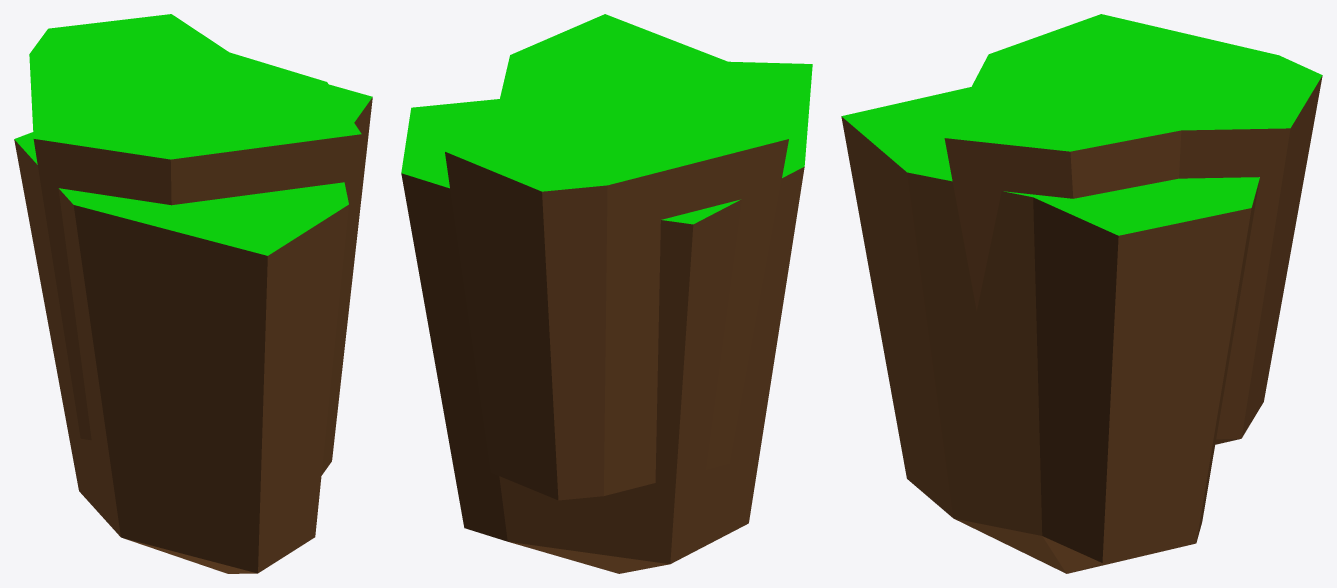
The model's file is Island03.fbx.
The picture shows the model from 3 angles, left to right: view 1: azimuth 30°, elevation 25°; view 2: azimuth 150°, elevation 25°; view 3: azimuth 270°, elevation 25°; orthographic projection. The views are drawn at different scales.
Parts seen in each view (by area): view 1: New_Game_Object__5_1; view 2: New_Game_Object__5_1; view 3: New_Game_Object__5_1.
Boxes of the visible parts, x1,y1,x2,y2 form: New_Game_Object__5_1: (14, 14, 372, 573); New_Game_Object__5_1: (401, 14, 812, 573); New_Game_Object__5_1: (841, 14, 1322, 573).
Size of the model in its own units: 1756 by 2076 by 2248.
